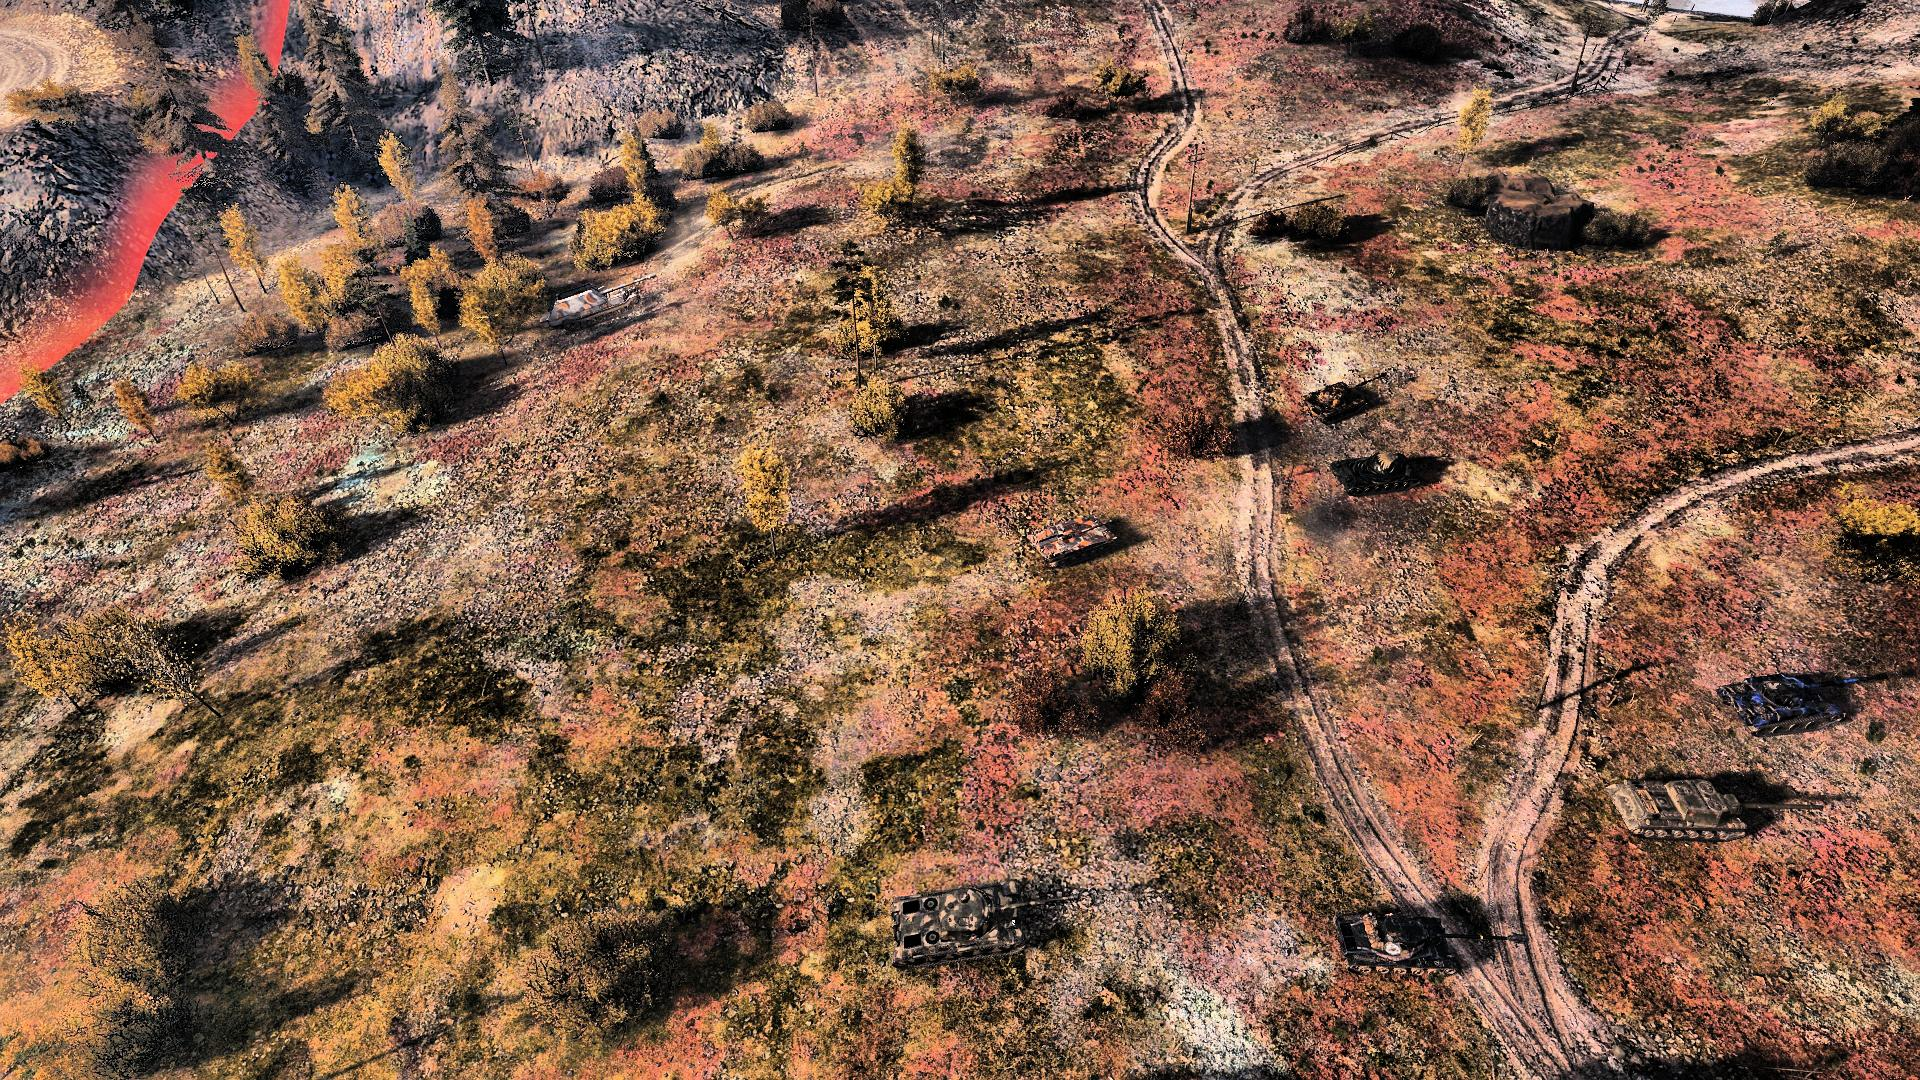military-vehicle: (886, 873, 1079, 968), (1606, 775, 1824, 839), (1333, 910, 1527, 980), (1717, 669, 1888, 733), (1327, 450, 1435, 493), (1022, 516, 1120, 562), (1302, 371, 1391, 419)
